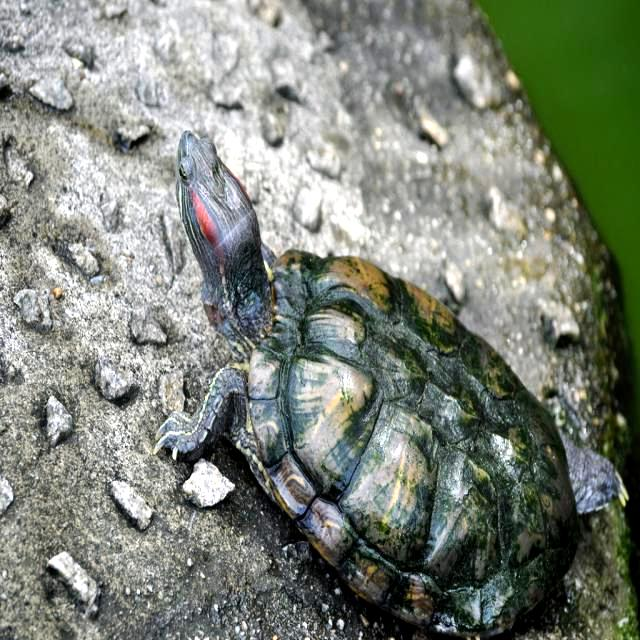Sea turtle: (150, 126, 630, 640)
